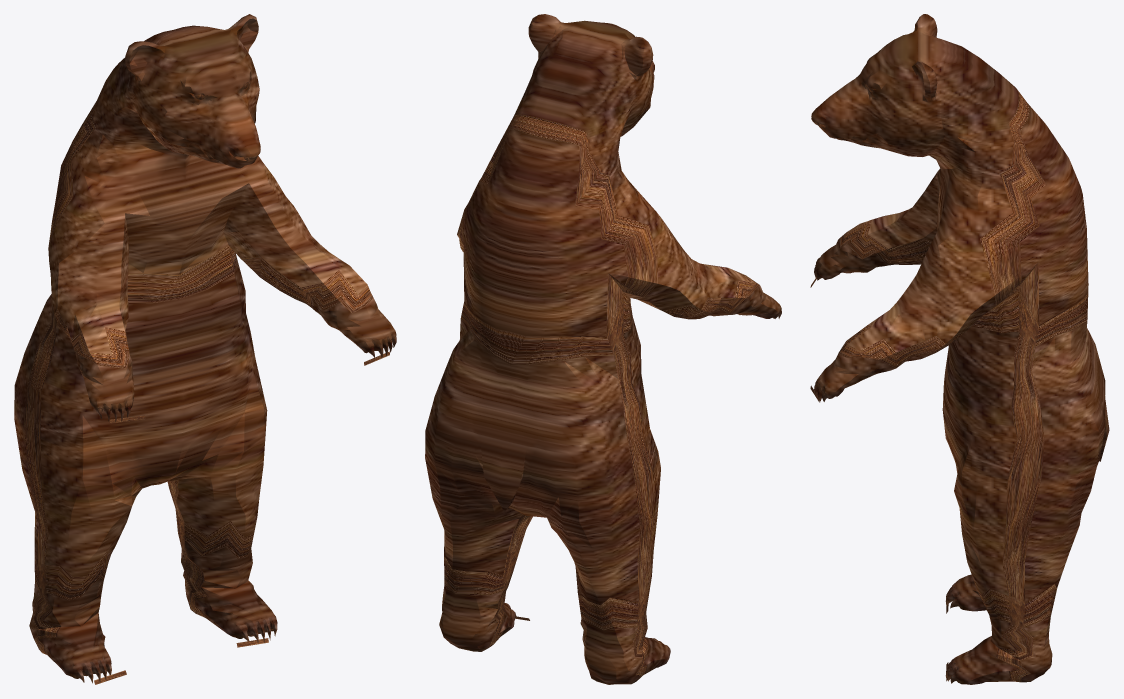
3 views of the same model, side by side, from view 1: azimuth 30°, elevation 25°; view 2: azimuth 150°, elevation 25°; view 3: azimuth 270°, elevation 25° (orthographic). The views are drawn at different scales.
Visible parts, largest first — view 1: bear, edge_group1; view 2: bear; view 3: bear.
Part boxes in pixels (x1,y1,x2,y2): bear: (14,14,396,683); edge_group1: (94,351,389,684); bear: (425,14,781,684); bear: (811,14,1109,684).
Size of the model in its own units: 1.13 by 2.3 by 1.03.
